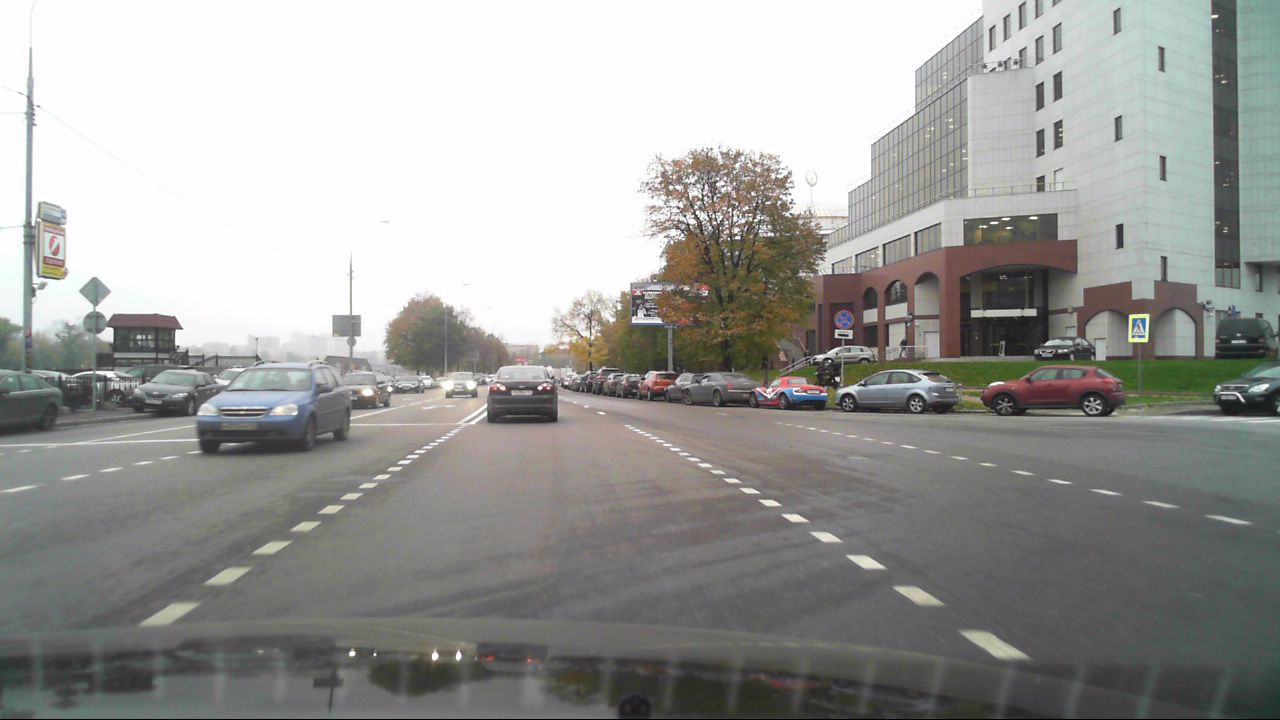No Parking: (832, 308, 854, 329)
